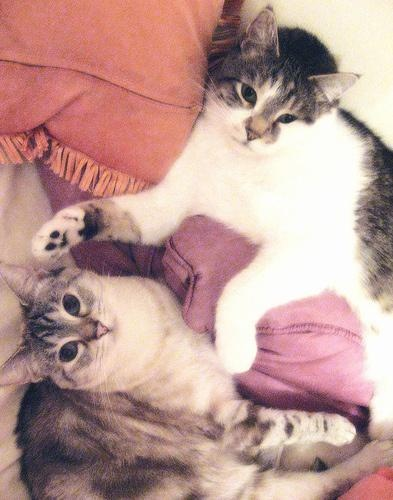cat: (31, 5, 393, 441), (2, 263, 392, 500)
